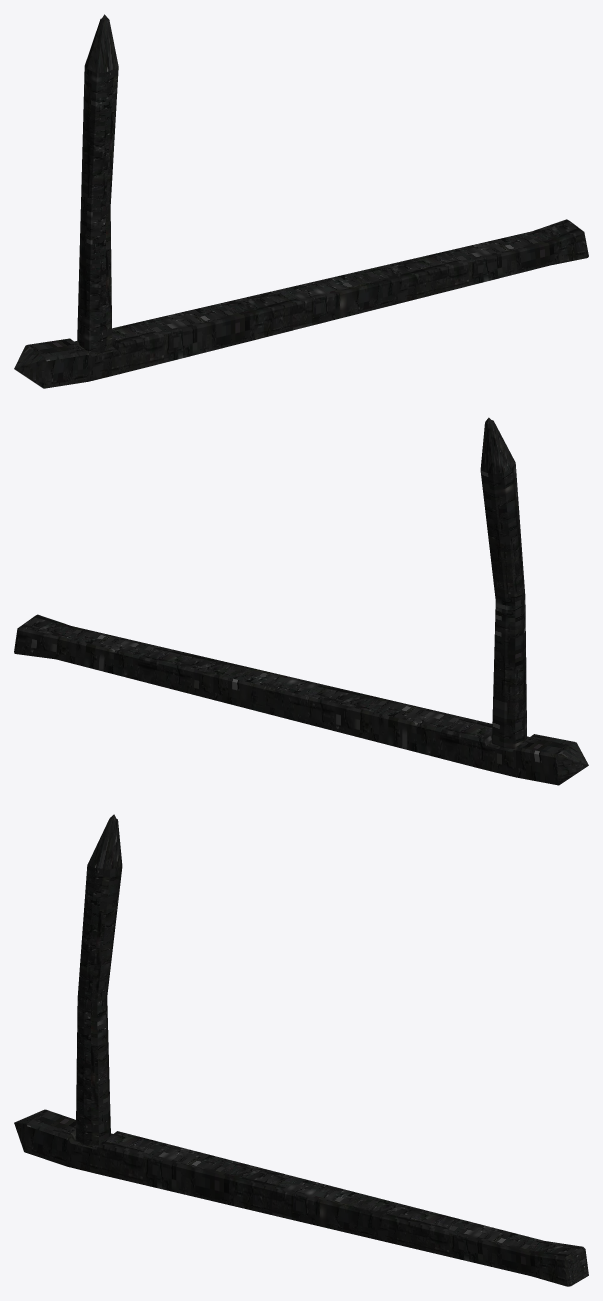
The model's file is 1_BURNT_01_8-transformed.glb.
3 renders of one model, top to bottom at view 1: azimuth 30°, elevation 25°; view 2: azimuth 150°, elevation 25°; view 3: azimuth 330°, elevation 25°, orthographic.
Parts seen in each view (by area): view 1: default; view 2: default; view 3: default.
Boxes of the visible parts, x1,y1,x2,y2 form: default: (14,14,588,388); default: (14,417,588,785); default: (14,814,588,1286).
Bounding box in the file's own units: 3.67 × 2.15 × 0.2371.
Materials: 1 (1 with a texture image).
